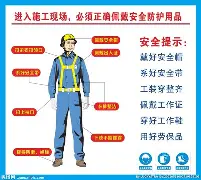safety belt: (56, 56, 85, 96)
